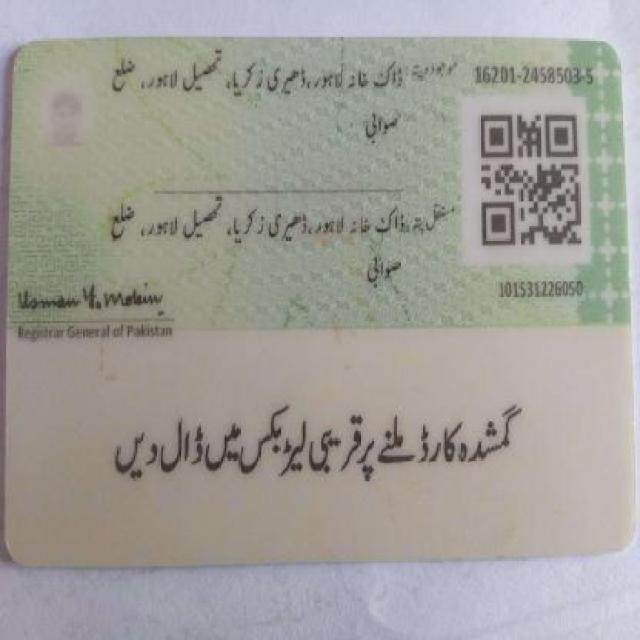Back: (7, 31, 636, 563)
